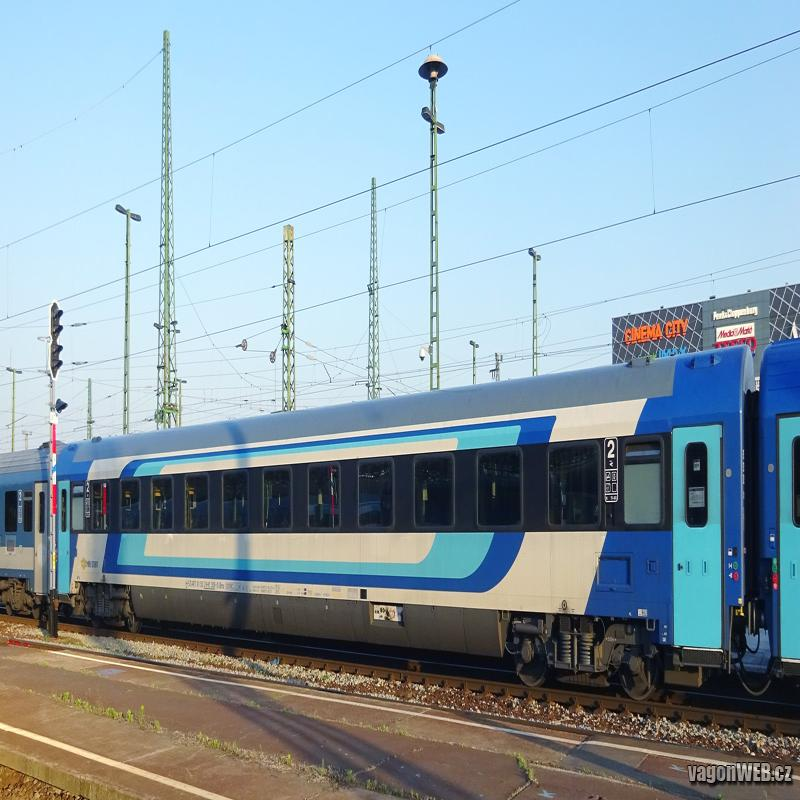train: (59, 345, 757, 719)
